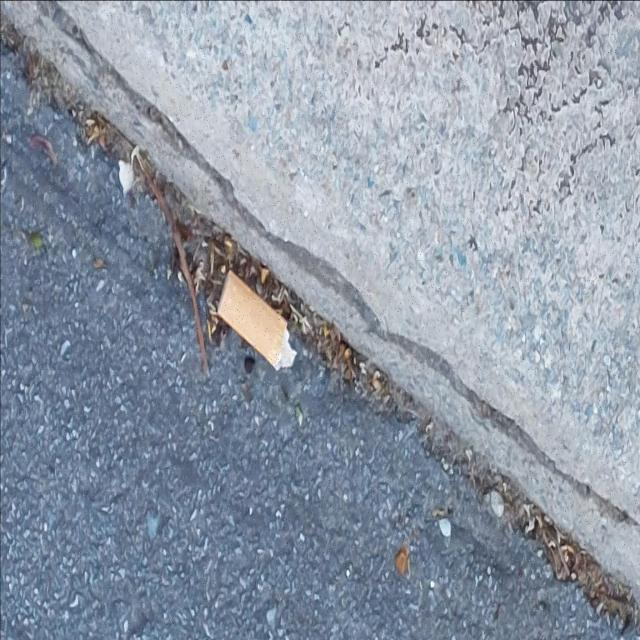other waste: (216, 268, 298, 373)
